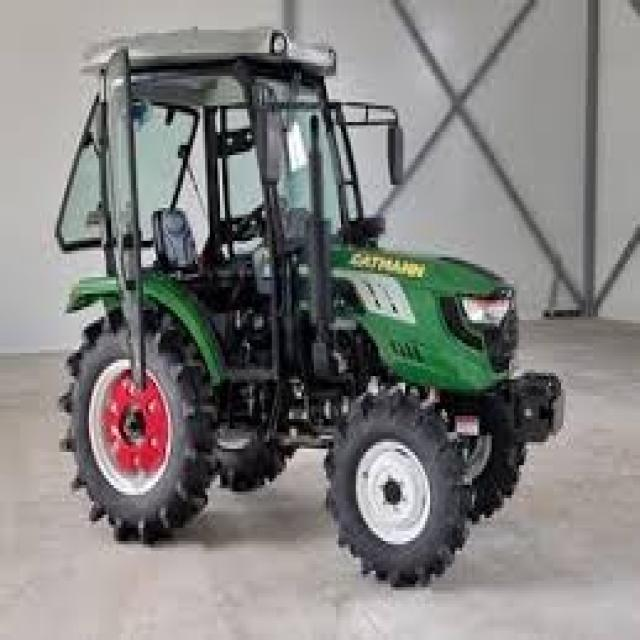Tratores - v5 YOLO V8L 2024-11-13: (56, 28, 520, 590)
